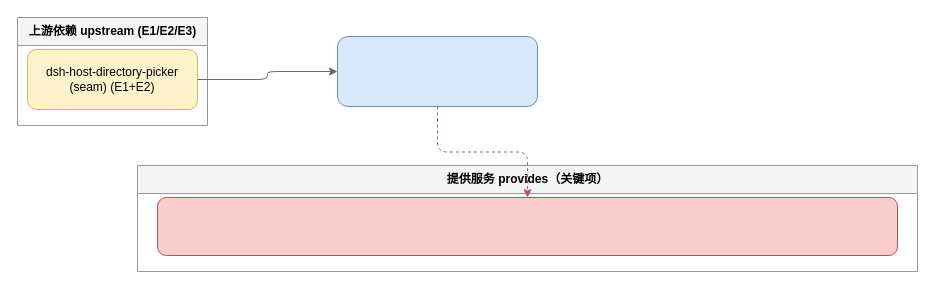
The diagram is 935 pixels wide and 289 high, and some of its shapes have lost their labels. The shapes that lost their labels are listed below. From the top down, each one's box as (x1, y1, x2, y2) in pixels, then its label:
(336, 36, 538, 106): @deepseek-ai/dsh-host-directory-picker-browse
(156, 196, 898, 256): ctx.directoryPicker（browse capability: list/createDirectory）
